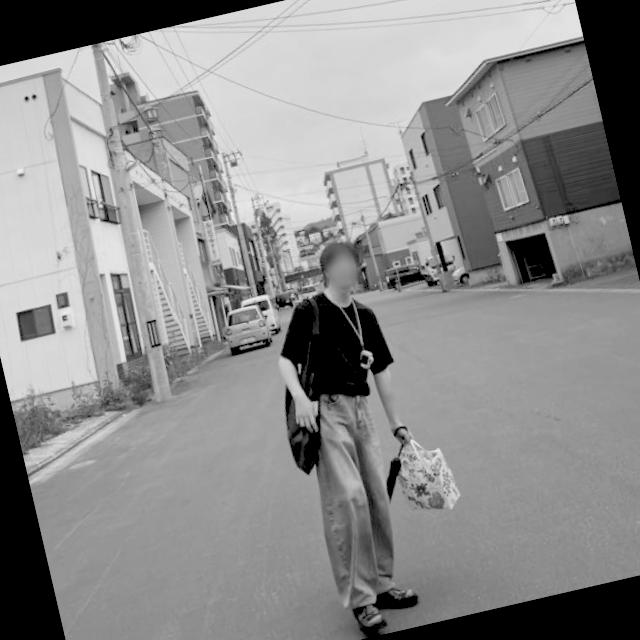denimpants: (291, 380, 413, 610)
shortsleeve: (270, 274, 398, 412)
